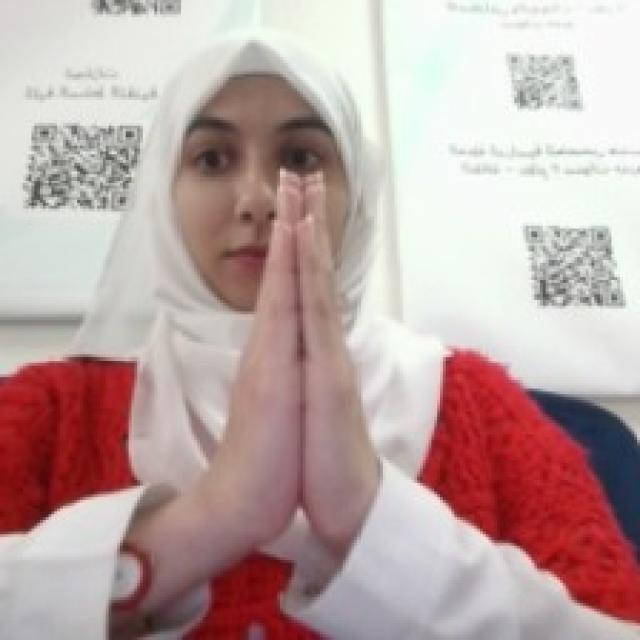sorry: (217, 180, 377, 537)
